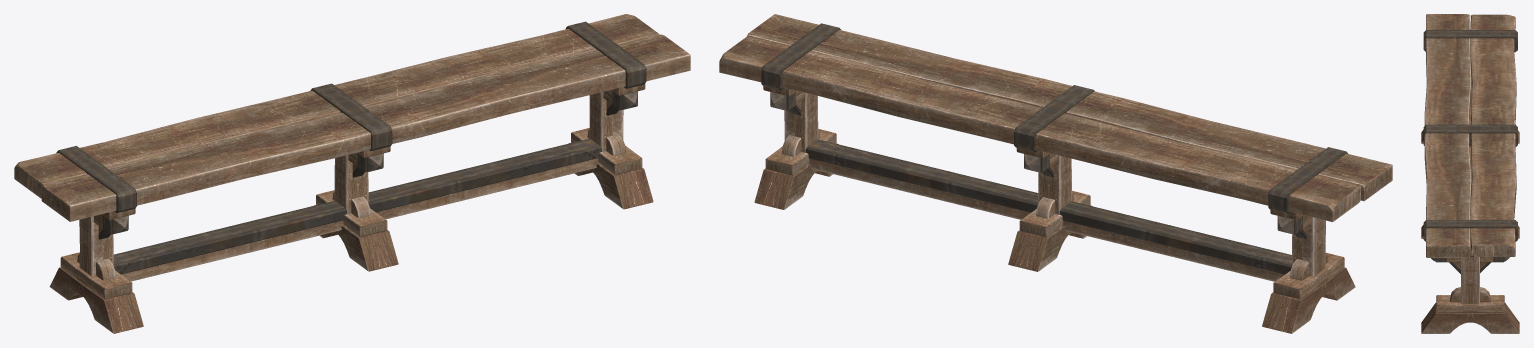
The picture shows the model from 3 angles, left to right: view 1: azimuth 30°, elevation 25°; view 2: azimuth 150°, elevation 25°; view 3: azimuth 270°, elevation 25°; orthographic projection. The views are drawn at different scales.
Visible parts, largest first — view 1: SM_DR_Bench_A_02_01_LOD0; view 2: SM_DR_Bench_A_02_01_LOD0; view 3: SM_DR_Bench_A_02_01_LOD0.
Boxes of the visible parts, bbox=[...] form: SM_DR_Bench_A_02_01_LOD0: bbox=[14, 14, 690, 333]; SM_DR_Bench_A_02_01_LOD0: bbox=[719, 14, 1392, 333]; SM_DR_Bench_A_02_01_LOD0: bbox=[1421, 14, 1519, 333].
Bounding box in the file's own units: 2.75 × 0.5799 × 0.492.
Materials: 3 (3 with a texture image).
